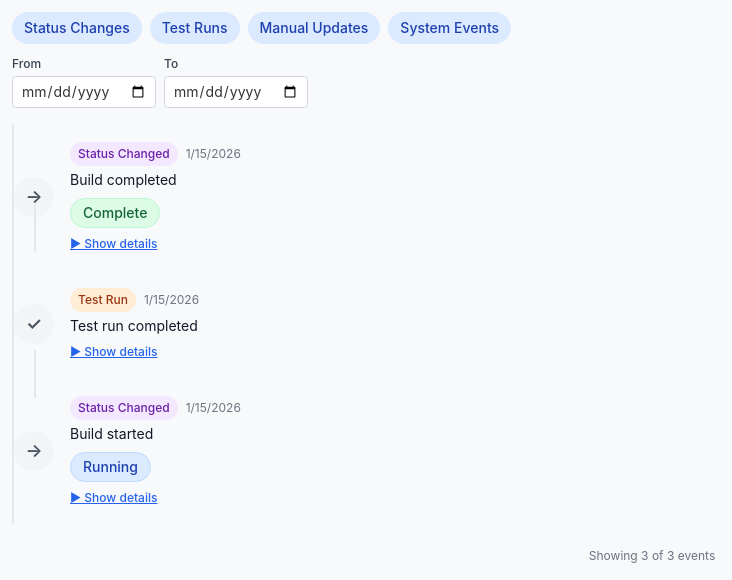
Test: ActivityFeed › should filter events by type
Expected: the text "Build completed" is shown, [70,171,177,188]
// Unselect Status Changes to show only other types
Click the button "Status Changes": (77, 28) [12,12,142,44]
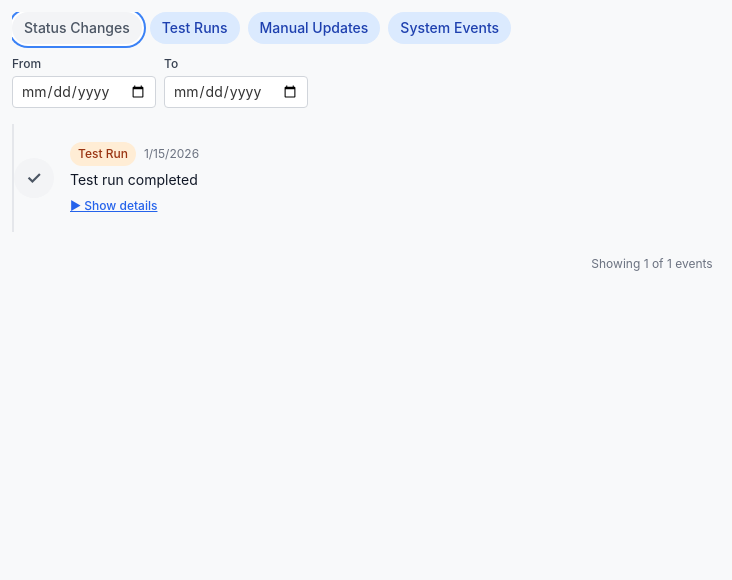
Expected: the text "Test run completed" is shown, [70,171,198,188]
Now the text "Build completed" is gone
